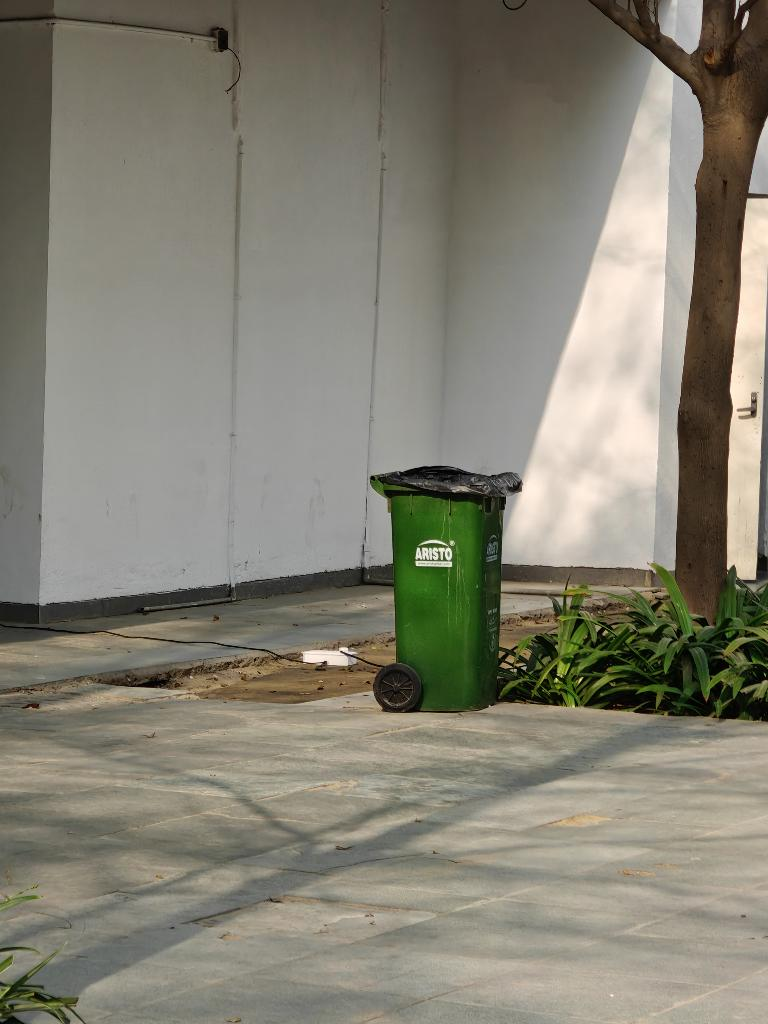dustbin: (355, 445, 531, 744)
